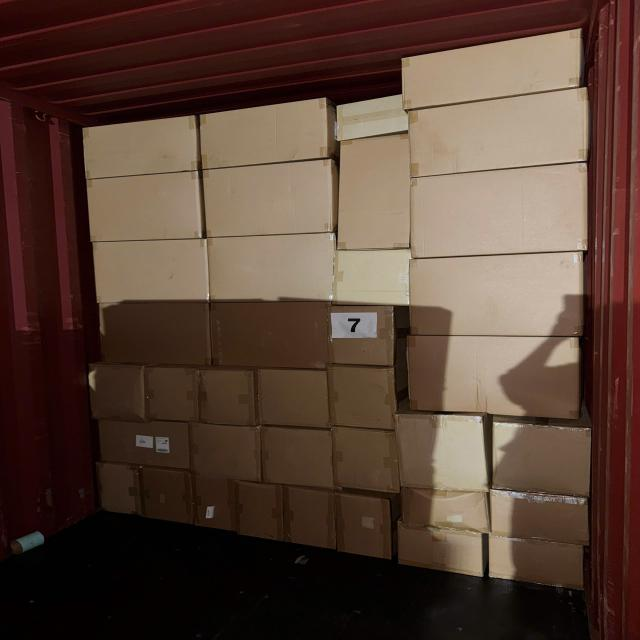Carton: (406, 80, 590, 179), (408, 160, 590, 255), (397, 22, 584, 112), (404, 336, 587, 424), (410, 250, 590, 339), (197, 94, 333, 172), (206, 157, 337, 236), (336, 129, 414, 254), (208, 235, 338, 307), (210, 298, 334, 370), (86, 168, 204, 240), (94, 240, 211, 309), (493, 416, 592, 496), (80, 114, 198, 181), (98, 304, 211, 371), (398, 415, 490, 493), (489, 536, 588, 593), (487, 489, 588, 543), (260, 428, 335, 492), (96, 419, 192, 468), (396, 526, 483, 580), (333, 424, 401, 493), (333, 248, 411, 306), (327, 363, 395, 429), (258, 365, 330, 427), (187, 421, 260, 482), (328, 307, 395, 370), (337, 490, 394, 563), (397, 486, 488, 530), (335, 92, 409, 143), (282, 488, 334, 555), (200, 369, 258, 429), (90, 362, 147, 421), (147, 367, 203, 425), (140, 468, 193, 529), (240, 480, 285, 544), (193, 473, 239, 535), (98, 462, 144, 517)
